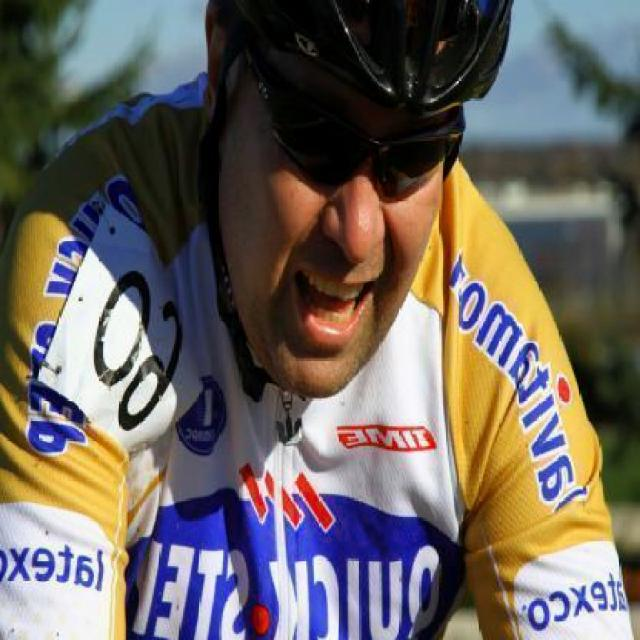face_nomask: (262, 122, 450, 346)
glasses: (243, 81, 459, 210)
